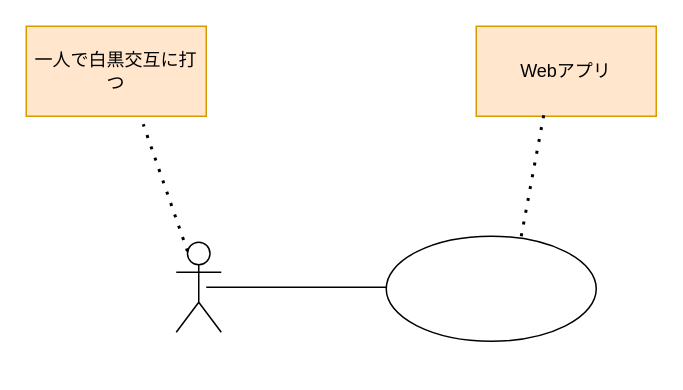
Image size: 683x390. Some labels were removed from this diagram. Here are the shapes that lost their labels. From the top down, the box of each, then its label:
(175, 241, 221, 332): プレイヤー
(385, 235, 596, 341): リバーシアプリケーション
